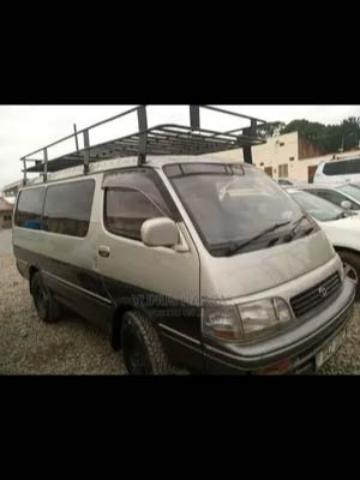van: (13, 105, 355, 369)
